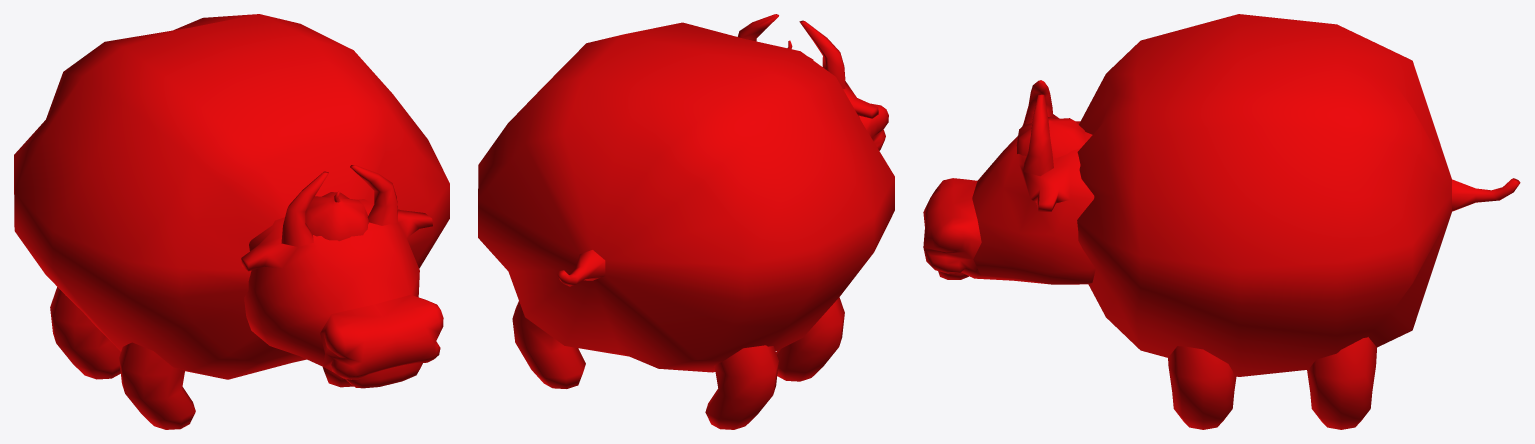
The model's file is cow.fbx.
3 views of the same model, side by side, from view 1: azimuth 30°, elevation 25°; view 2: azimuth 150°, elevation 25°; view 3: azimuth 270°, elevation 25° (orthographic). The views are drawn at different scales.
Visible parts, largest first — view 1: pumpking, head, leg, upmouth, horn, hat, downmouth; view 2: pumpking, leg, horn, tail.001, upmouth, head; view 3: pumpking, head, leg, upmouth, horn, hat, tail.001.
Part boxes in pixels (left/top/right/bottom): pumpking: left=14, top=14, right=449, bottom=379; head: left=241, top=199, right=432, bottom=366; leg: left=50, top=287, right=353, bottom=429; upmouth: left=320, top=295, right=443, bottom=379; horn: left=281, top=165, right=397, bottom=246; hat: left=305, top=192, right=368, bottom=241; downmouth: left=345, top=363, right=422, bottom=388; pumpking: left=478, top=22, right=894, bottom=372; leg: left=512, top=297, right=844, bottom=429; horn: left=737, top=14, right=845, bottom=88; tail.001: left=557, top=250, right=605, bottom=286; upmouth: left=859, top=103, right=888, bottom=150; head: left=843, top=81, right=878, bottom=118; pumpking: left=1077, top=14, right=1451, bottom=376; head: left=972, top=114, right=1095, bottom=284; leg: left=1168, top=337, right=1376, bottom=429; upmouth: left=923, top=178, right=981, bottom=278; horn: left=1023, top=80, right=1053, bottom=176; hat: left=1016, top=116, right=1085, bottom=158; tail.001: left=1452, top=178, right=1520, bottom=211.
Bounding box in the file's own units: 330 × 277 × 455.
